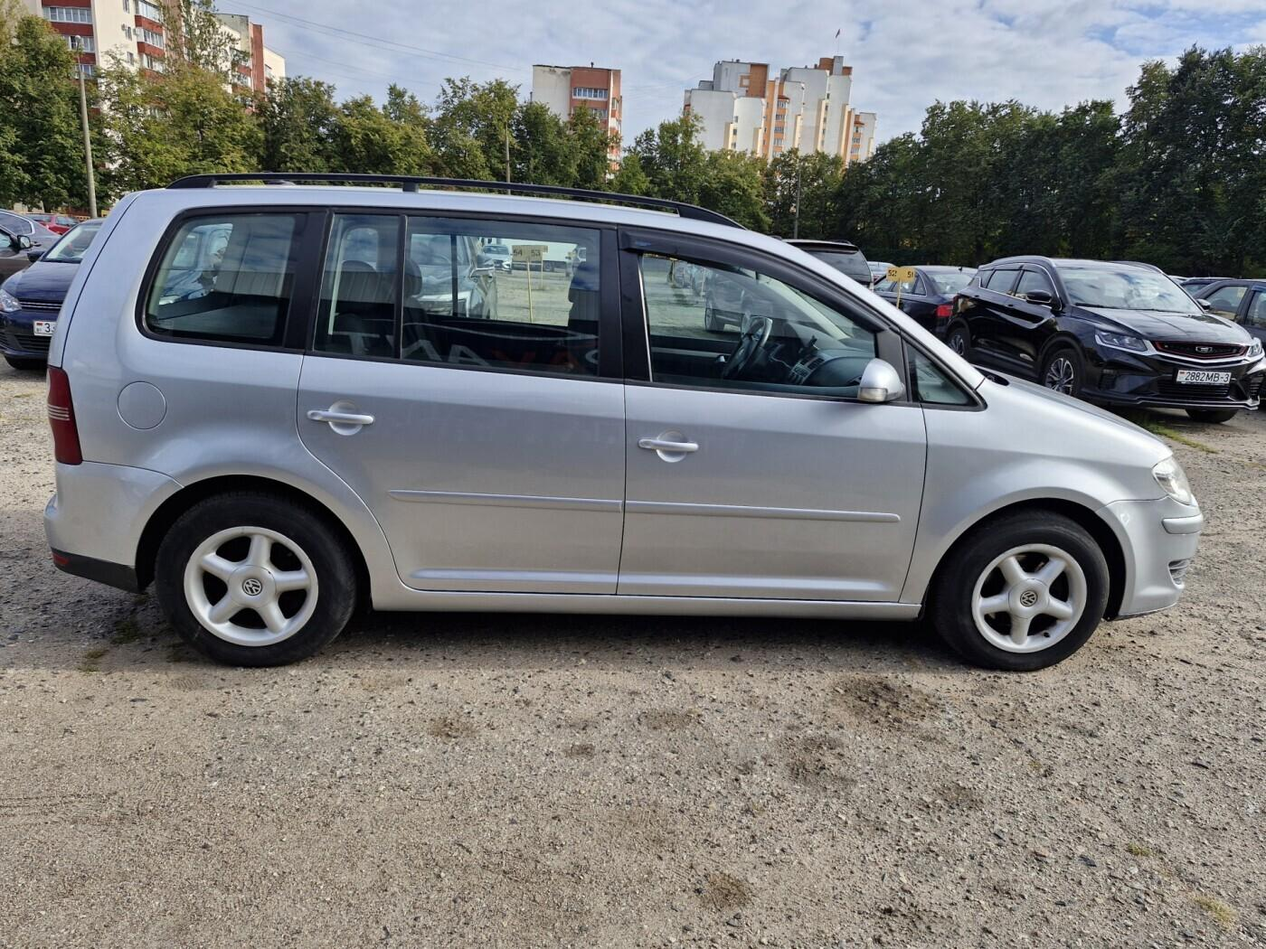Touran_2006-2010: (43, 178, 1205, 670)
